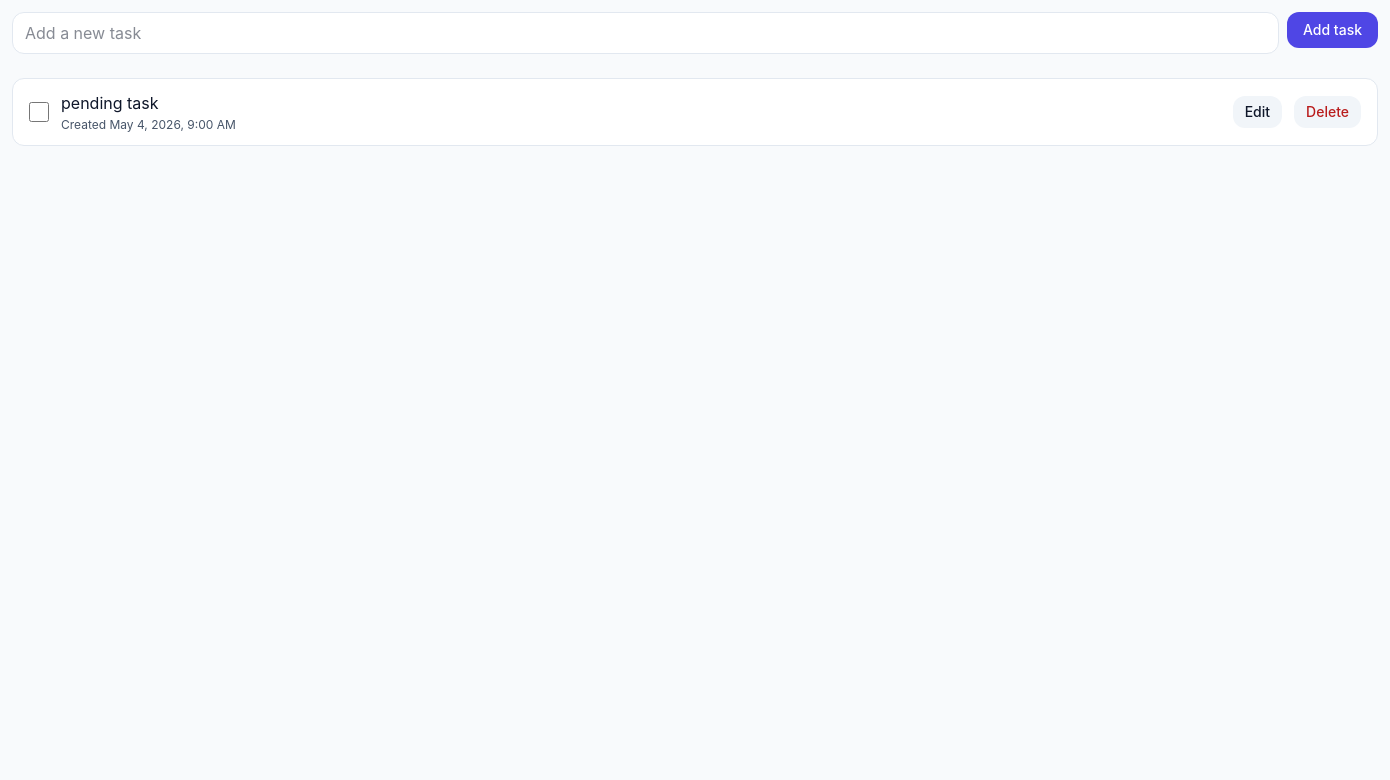
it: <TaskRow /> behaviours (rendered through <TaskList />) › reverts and surfaces a notification when the complete request 500s
Click the checkbox named "mark \"pending task\" as completed" at coordinates (39, 112), box [29,102,49,122]
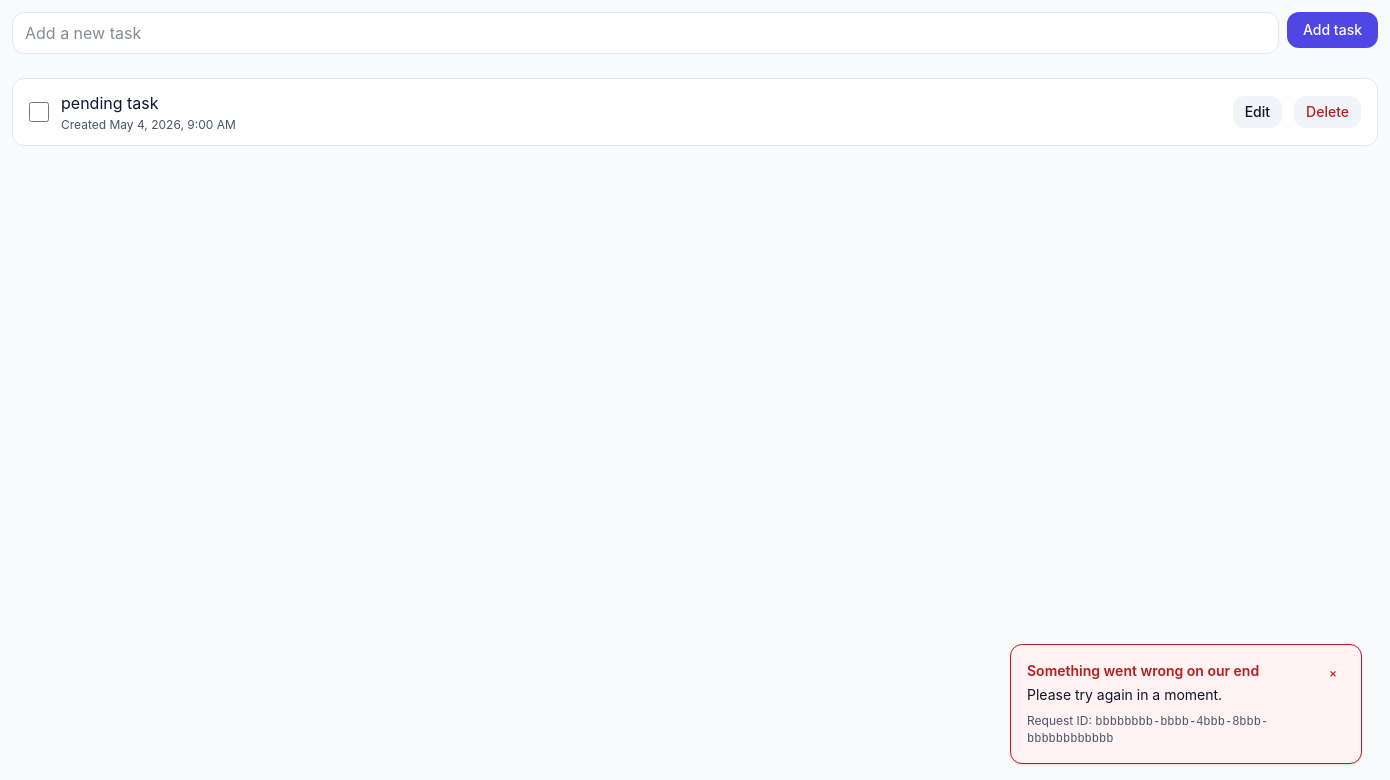
Result: the text "Something went wrong on our end" is shown at [1027,662,1259,679]
Result: the text "bbbbbbbb-bbbb-4bbb-8bbb-bbbbbbbbbbbb" is shown at [1027,715,1268,746]
